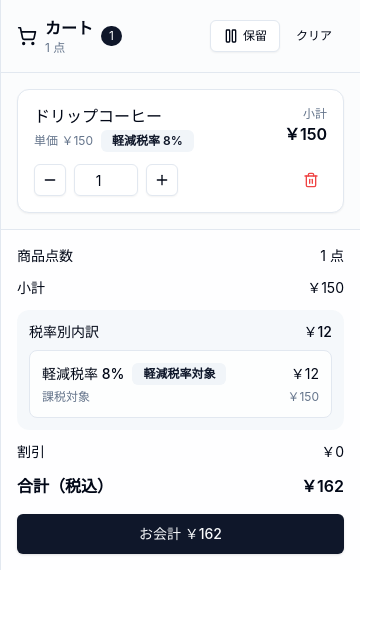
Test case: CartSidebar › -ボタンで数量が減る（0で削除）
Click the button named "ドリップコーヒー の数量を減らす".
click(50, 180)  # box [34,164,66,196]
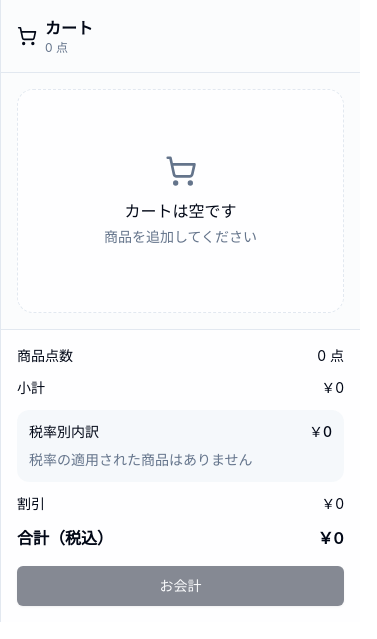
Result: the text "カートは空です" is shown at [124,201,236,221]
